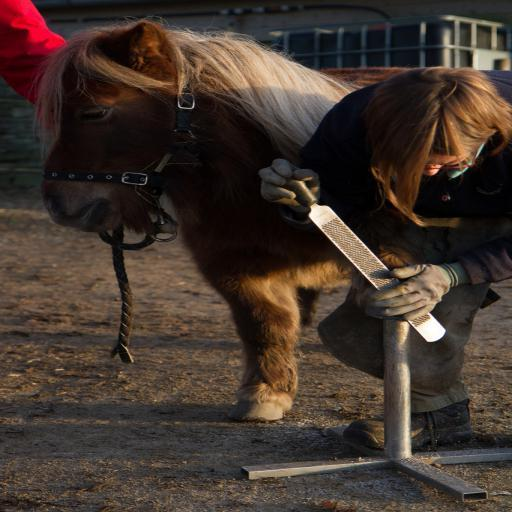horse: (31, 18, 512, 420)
